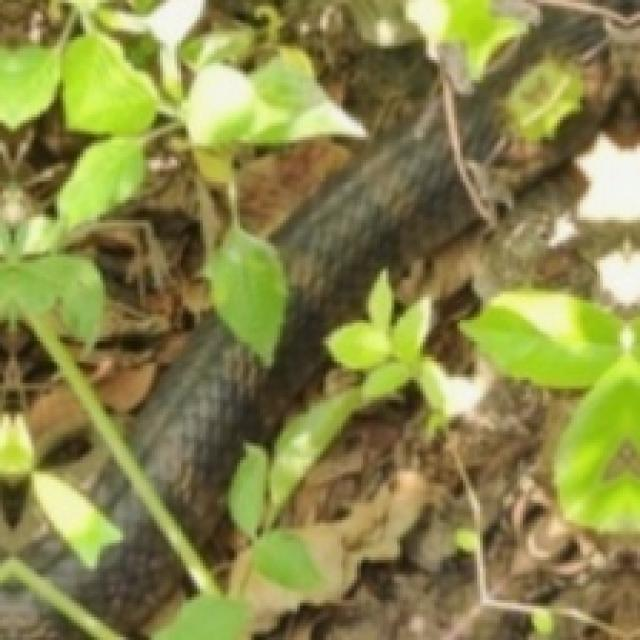king cobra: (0, 0, 637, 637), (291, 263, 440, 440), (223, 431, 283, 586)
